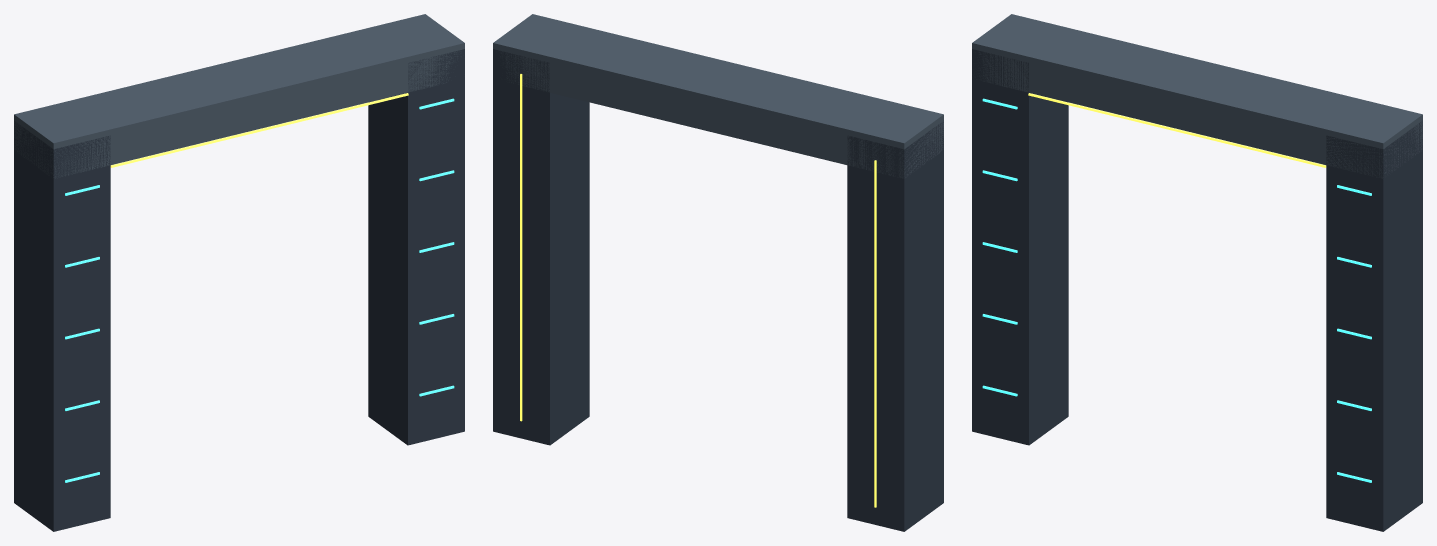
The model's file is gate_frame.glb.
The picture shows the model from 3 angles, left to right: view 1: azimuth 30°, elevation 25°; view 2: azimuth 150°, elevation 25°; view 3: azimuth 330°, elevation 25°; orthographic projection.
Parts seen in each view (by area): view 1: gate_frame; view 2: gate_frame; view 3: gate_frame.
Part boxes in pixels (bbox=[...]): gate_frame: bbox=[14, 14, 464, 531]; gate_frame: bbox=[493, 14, 943, 531]; gate_frame: bbox=[972, 14, 1422, 531].
Size of the model in its own units: 72 by 65 by 12.47.
